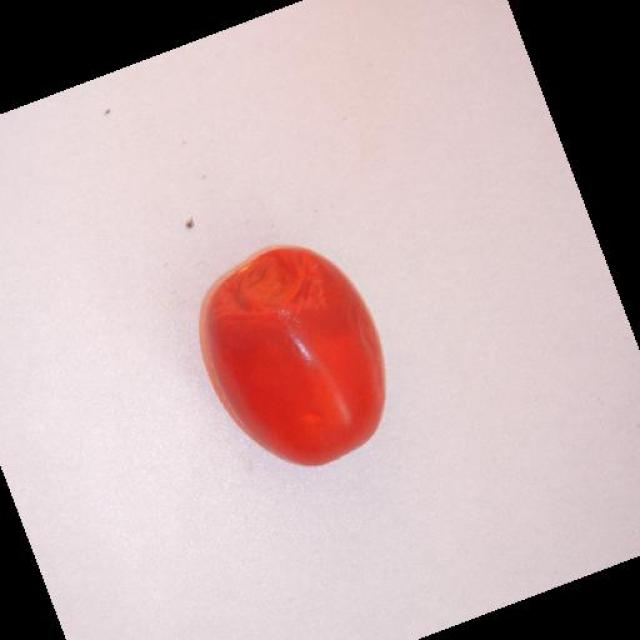Stale_tomato: (209, 246, 401, 445)
